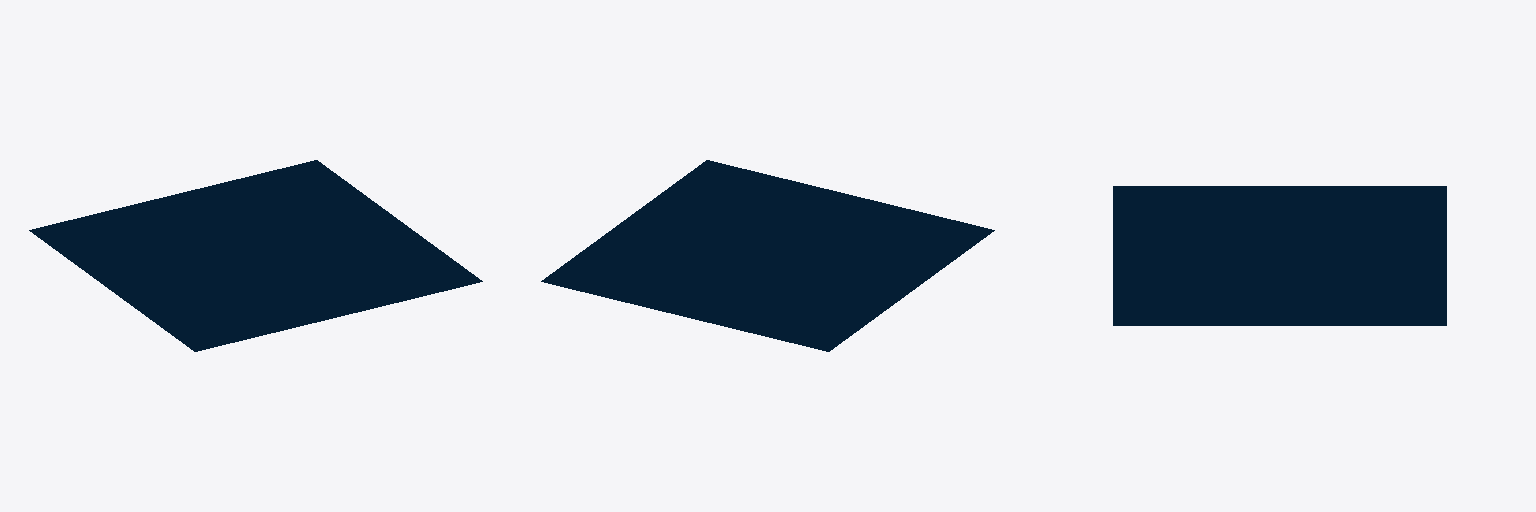
Rendered from Lake8.obj.
The picture shows the model from 3 angles: view 1: azimuth 30°, elevation 25°; view 2: azimuth 150°, elevation 25°; view 3: azimuth 270°, elevation 25°; orthographic projection.
Parts seen in each view (by area): view 1: Water_Grid.001; view 2: Water_Grid.001; view 3: Water_Grid.001.
Boxes of the visible parts, box(x1,y1,x2,y2) form: Water_Grid.001: box(29, 160, 482, 351); Water_Grid.001: box(541, 160, 994, 351); Water_Grid.001: box(1113, 186, 1446, 325).
Size of the model in its own units: 40 by 0 by 40.